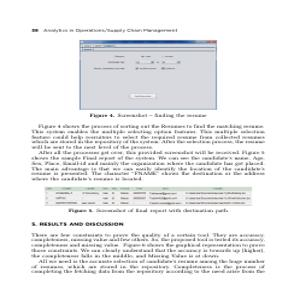image: (75, 36, 222, 112)
table: (36, 185, 262, 209)
text: (31, 122, 268, 184), (26, 219, 267, 276)
